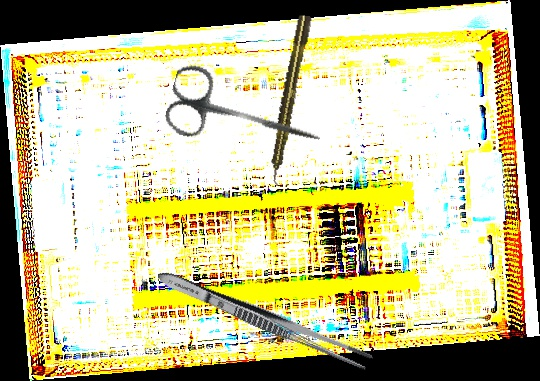Dressing Forceps: (153, 265, 376, 373)
Handpiece: (264, 14, 314, 187)
Iris Scissors: (161, 61, 330, 171)
